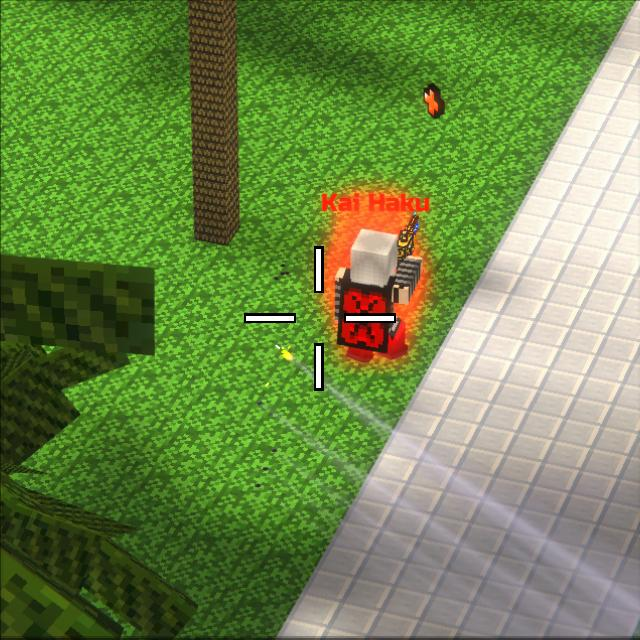Enemy: (332, 229, 420, 353)
